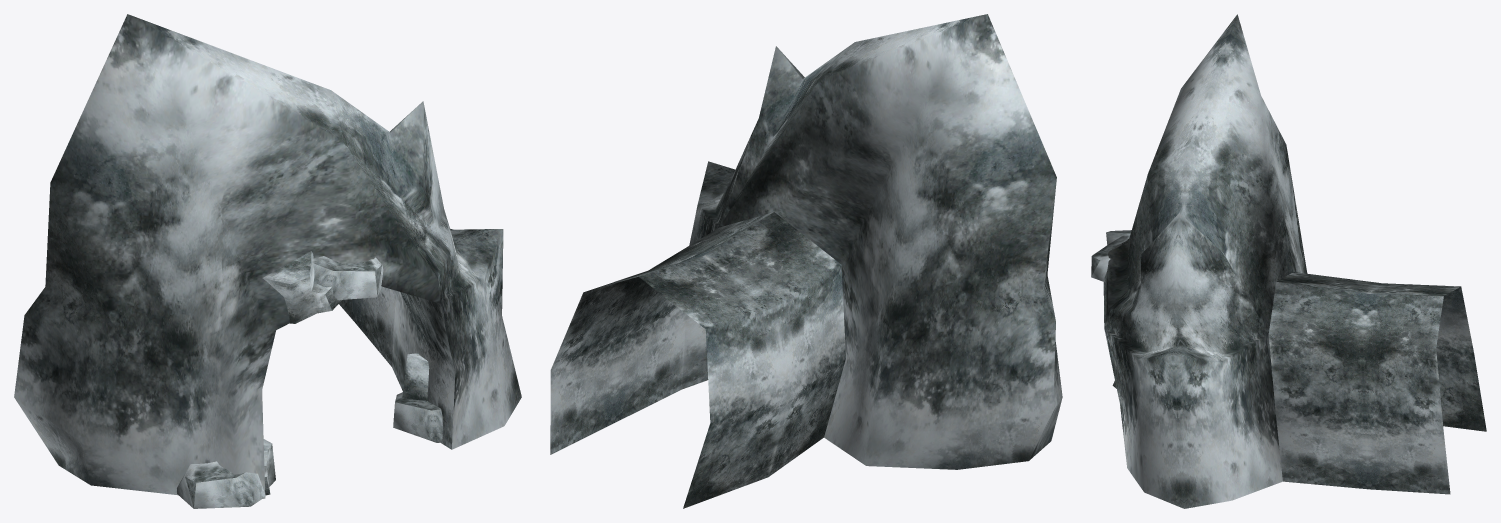
Rendered from S_Rock_White006.FBX.
3 renders of one model, left to right at view 1: azimuth 30°, elevation 25°; view 2: azimuth 150°, elevation 25°; view 3: azimuth 270°, elevation 25°, orthographic. The views are drawn at different scales.
Visible parts, largest first — view 1: S_Rock_White006; view 2: S_Rock_White006; view 3: S_Rock_White006.
Boxes of the visible parts, x1,y1,x2,y2 form: S_Rock_White006: [14, 14, 521, 508]; S_Rock_White006: [550, 14, 1062, 508]; S_Rock_White006: [1091, 14, 1486, 508].
Bounding box in the file's own units: 787 × 751 × 751.
